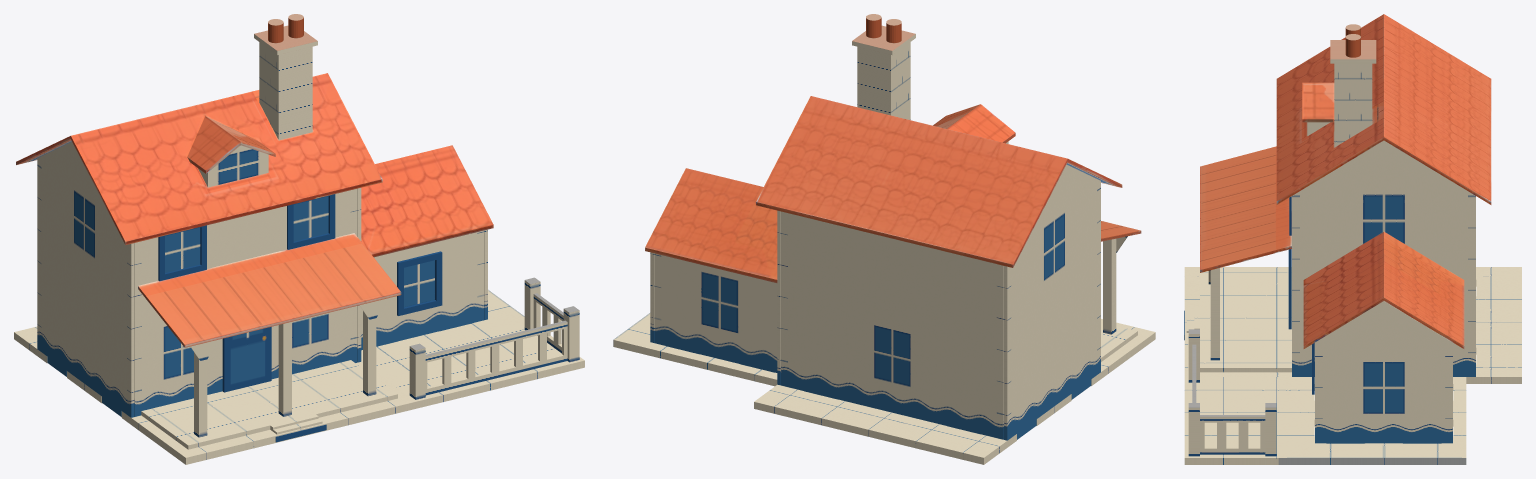
File: cottage.glb
3 renders of one model, left to right at view 1: azimuth 30°, elevation 25°; view 2: azimuth 150°, elevation 25°; view 3: azimuth 270°, elevation 25°, orthographic.
Parts seen in each view (by area): view 1: P14, P05, P04, P12, P31, P09, P28, P33, P01, P15, P35, P25 (+14 smaller); view 2: P03, P13, P05, P27, P30, P01, P15, P25, P24, P22, P10, P09 (+1 smaller); view 3: P02, P26, P13, P12, P09, P14, P25, P01, P30, P31, P33, P15 (+7 smaller).
Boxes of the visible parts, box(x1,y1,x2,y2) form: P14: box(70, 73, 382, 244); P05: box(37, 142, 134, 417); P04: box(134, 189, 357, 416); P12: box(138, 233, 401, 347); P31: box(361, 145, 493, 257); P09: box(141, 360, 397, 449); P28: box(361, 230, 484, 350); P33: box(376, 328, 584, 408); P01: box(14, 326, 415, 464); P15: box(259, 42, 312, 140); P35: box(425, 320, 567, 395); P25: box(361, 290, 524, 364); P03: box(781, 211, 1003, 439); P13: box(756, 96, 1067, 267); P05: box(1004, 164, 1100, 440); P27: box(654, 253, 777, 372); P30: box(645, 168, 777, 282); P01: box(754, 319, 1155, 464); P15: box(857, 42, 910, 119); P25: box(613, 313, 777, 386); P24: box(852, 14, 915, 55); P22: box(947, 104, 1015, 143); P10: box(1103, 238, 1116, 334); P09: box(1101, 322, 1137, 361); P02: box(1292, 140, 1475, 376); P26: box(1315, 301, 1452, 443); P13: box(1384, 14, 1491, 204); P12: box(1200, 146, 1291, 272); P09: box(1200, 267, 1291, 372); P14: box(1276, 14, 1383, 204); P25: box(1278, 377, 1466, 464); P01: box(1184, 267, 1521, 383); P30: box(1384, 231, 1464, 348); P31: box(1303, 231, 1383, 348); P33: box(1184, 377, 1278, 464); P15: box(1334, 63, 1372, 147).
Size of the model in its own units: 0.122 by 0.0952 by 0.0882.
Materials: 34 (34 with a texture image).
